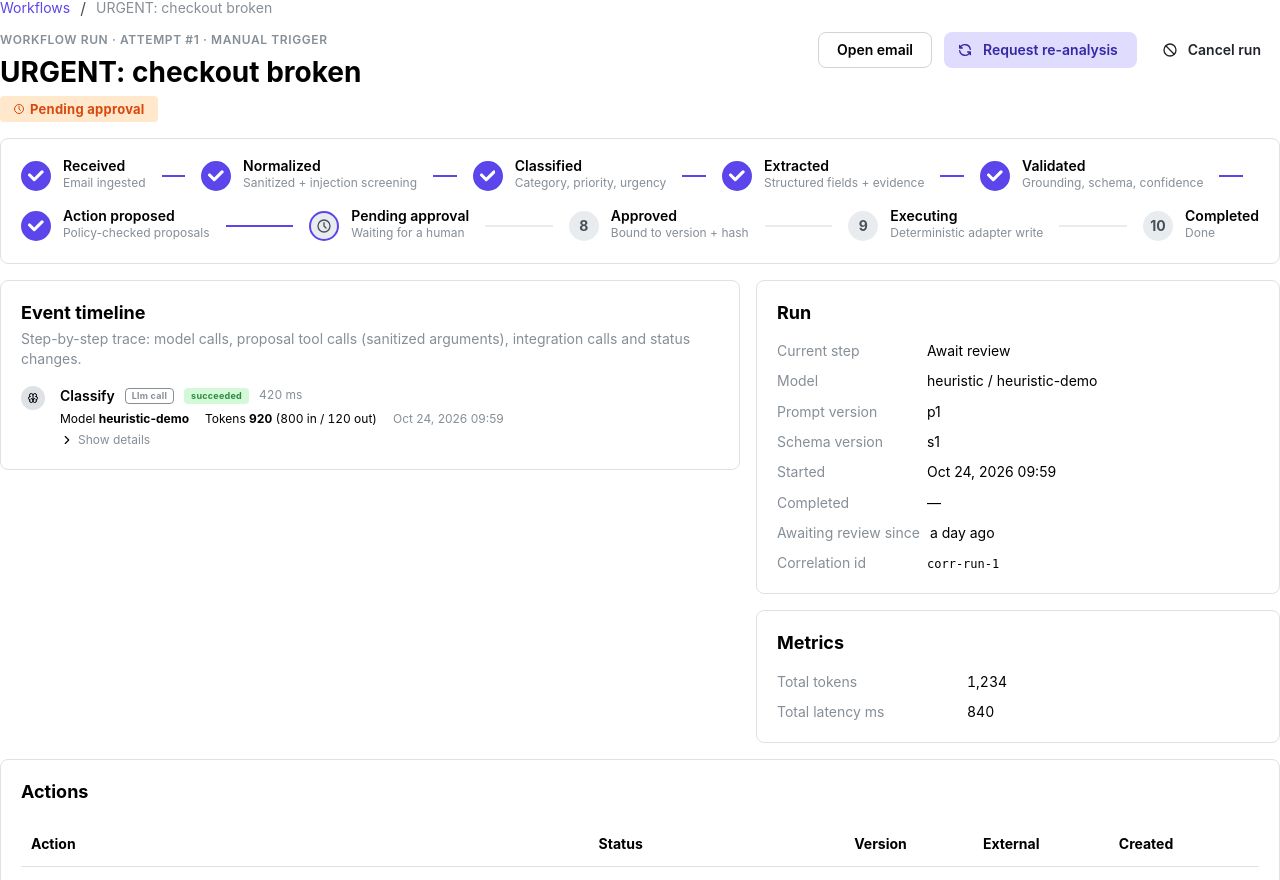
Scenario: <WorkflowDetailPage> run controls › cancels the run after confirmation (Escape closes the dialog first)
Step 1. Click the button "Cancel run" → (1214, 50), box 1149,32 -> 1279,68
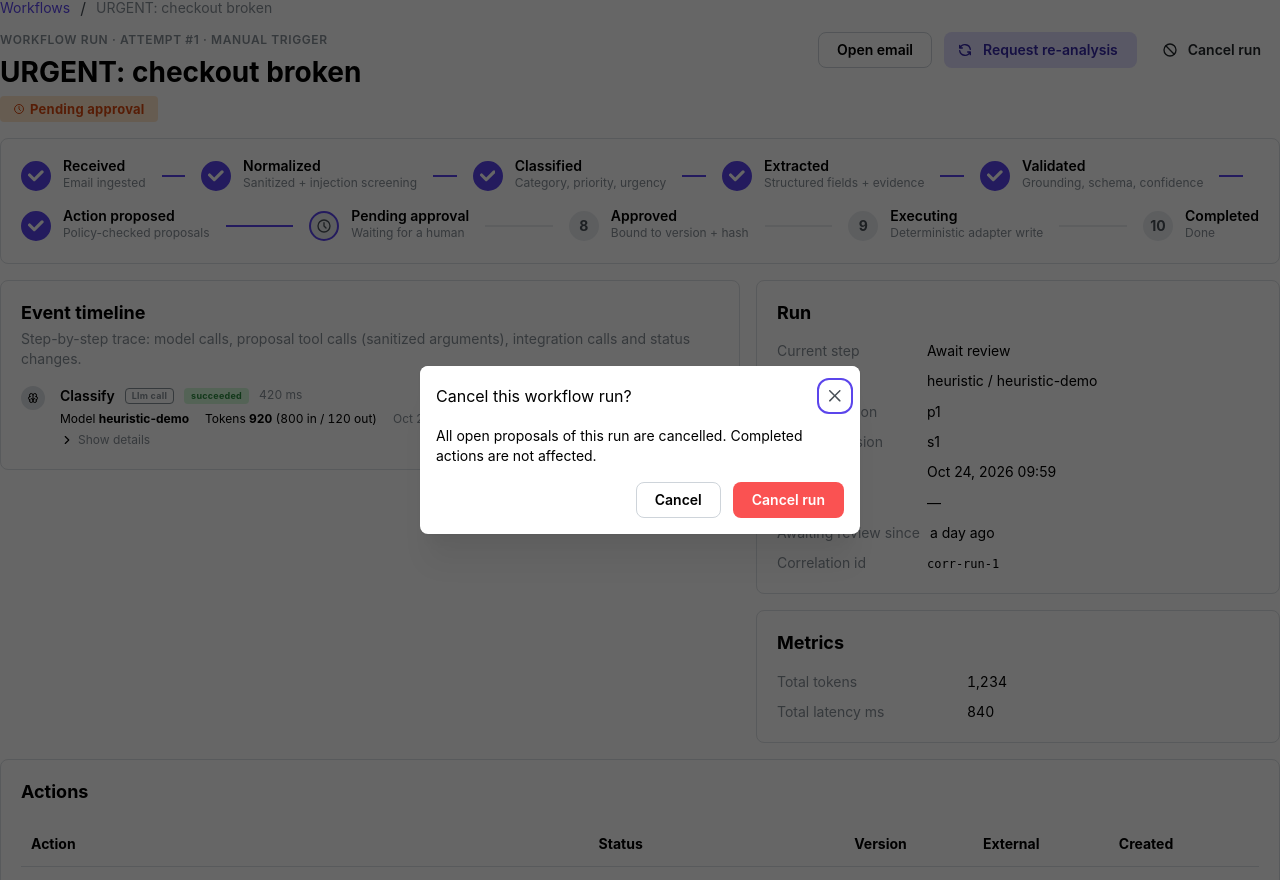
Now the dialog "Cancel this workflow run?" is shown, box 420,366 -> 860,534
Step 2. Press Escape
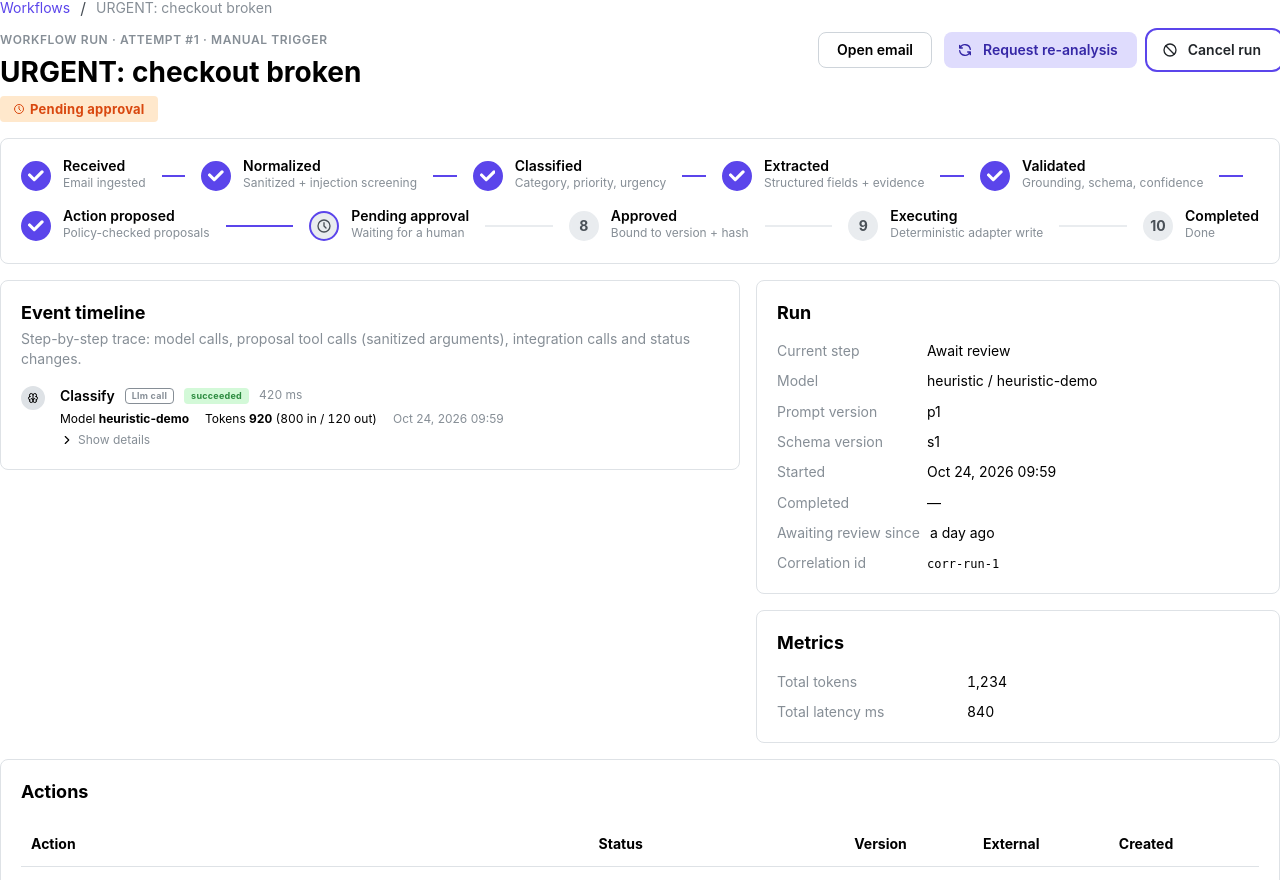
Now the dialog is gone
Step 3. Click the button "Cancel run" → (1214, 50), box 1149,32 -> 1279,68
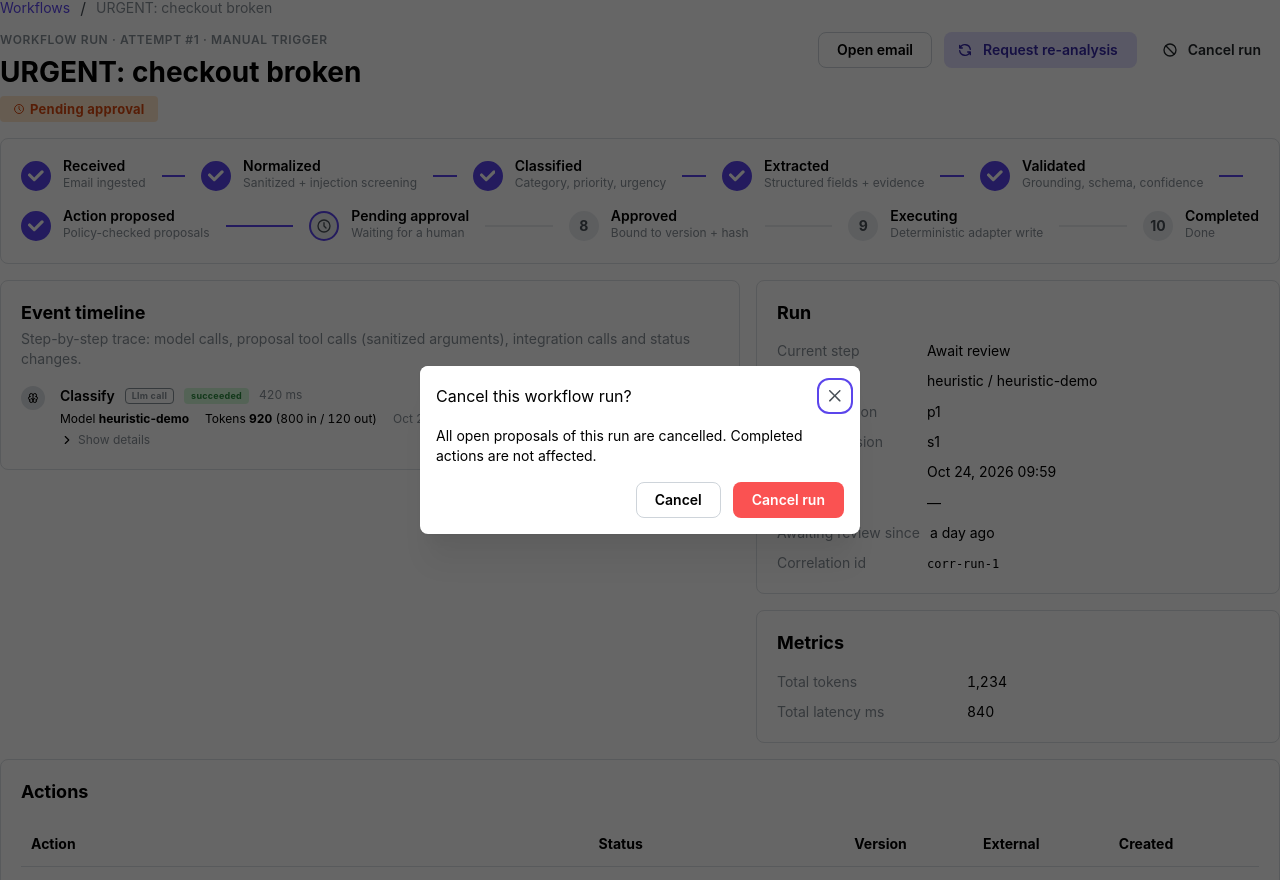
Now the dialog "Cancel this workflow run?" shows "Completed actions are not affected.", box 436,427 -> 803,464
Step 4. Click the button "Cancel run" → (788, 500), box 733,482 -> 844,518
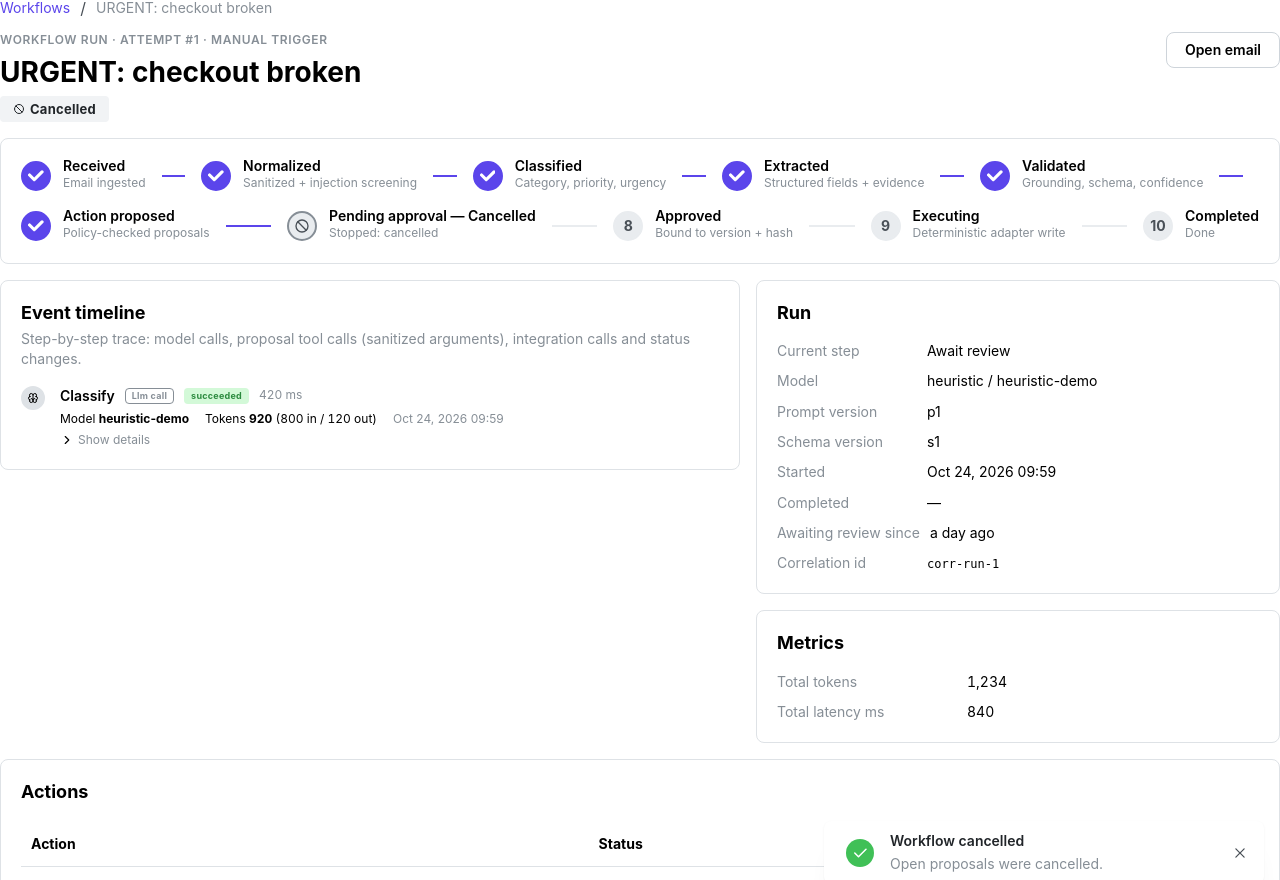
Now the text "Workflow cancelled" is shown, box 890,832 -> 1024,849
Now the element named "Status: Cancelled" is shown, box 0,96 -> 109,122
Now the button "Cancel run" is gone
